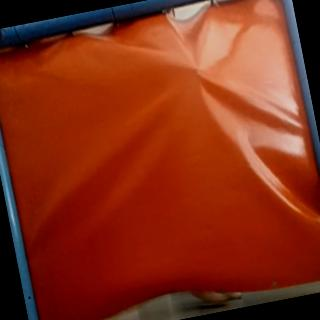Hit-hRxx: (186, 60, 208, 78)
